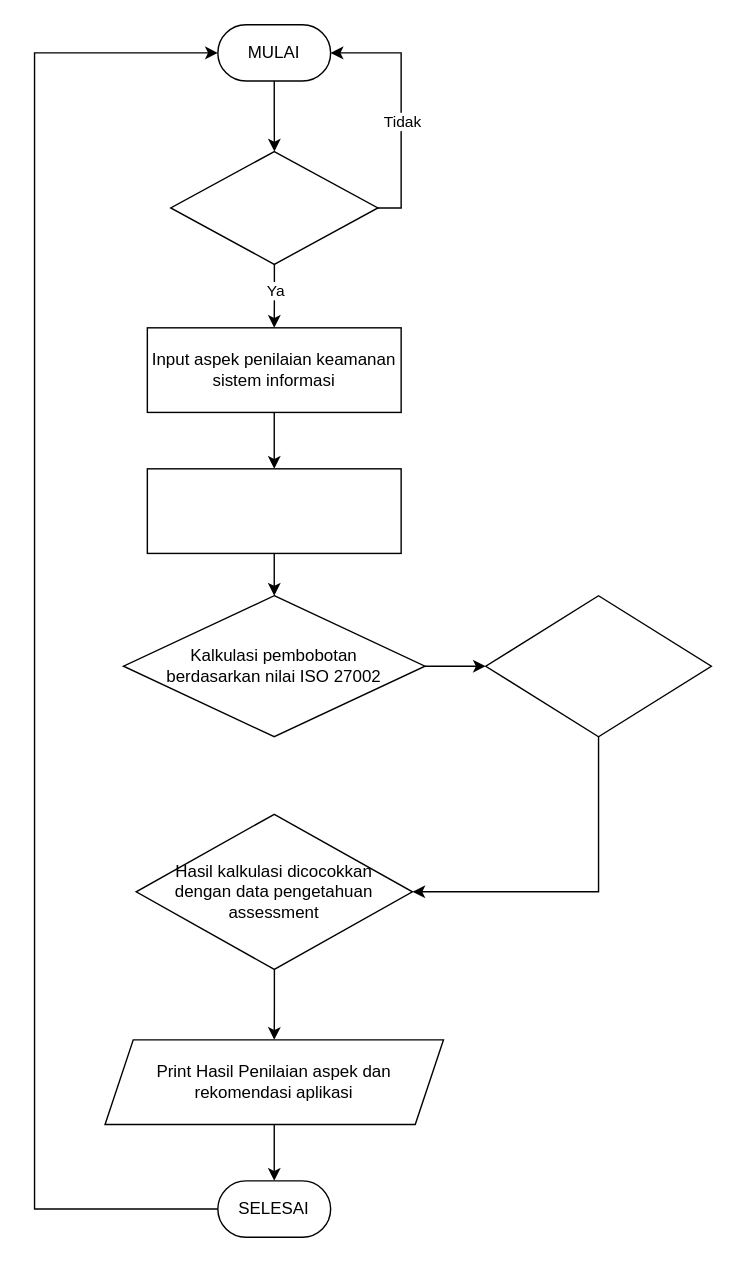
Some shapes in this 736 by 1262 pixel diagram are drawn without their labels. Each missing label, with the centre of its shape:
Input assessment berdasarkan standar ISO 27002: (273,510)
Login Aplikasi: (273,207)
Save kalkulasi di database Firestore: (597,665)
